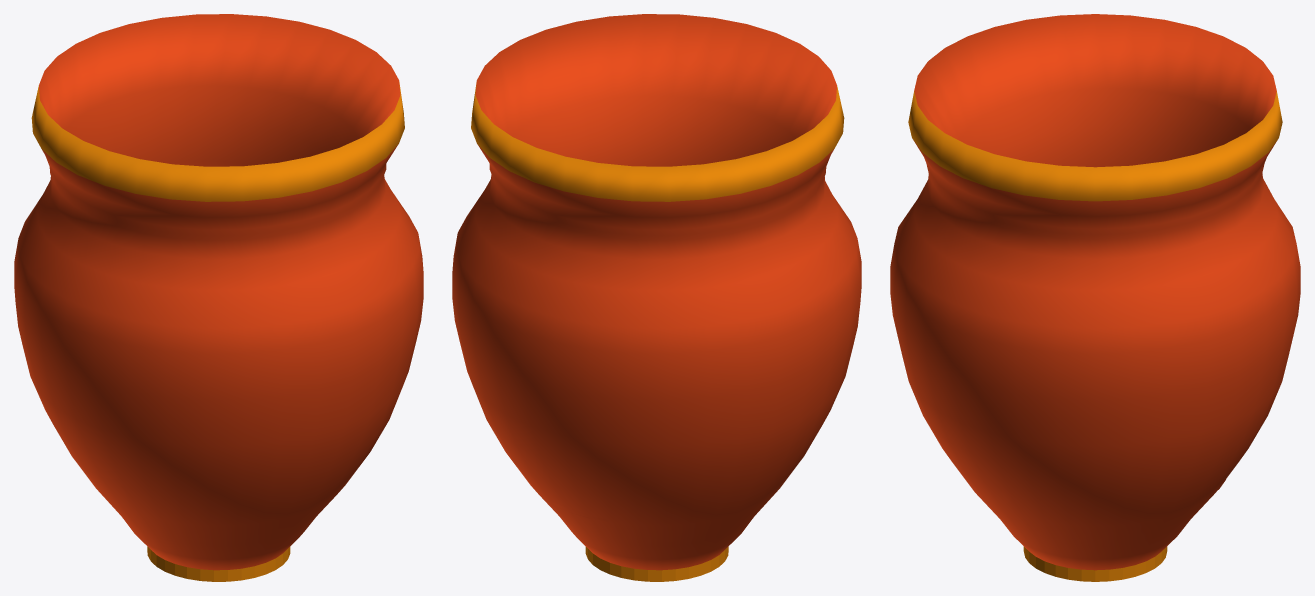
The model's file is Olla.glb.
3 renders of one model, left to right at view 1: azimuth 30°, elevation 25°; view 2: azimuth 150°, elevation 25°; view 3: azimuth 270°, elevation 25°, orthographic.
Visible parts, largest first — view 1: Cylinder001, Cylinder; view 2: Cylinder001, Cylinder; view 3: Cylinder001, Cylinder.
Boxes of the visible parts, x1=… form: Cylinder001: x1=14, y1=14, x2=423, y2=570; Cylinder: x1=147, y1=546, x2=290, y2=581; Cylinder001: x1=452, y1=14, x2=861, y2=570; Cylinder: x1=585, y1=546, x2=728, y2=581; Cylinder001: x1=890, y1=14, x2=1300, y2=570; Cylinder: x1=1023, y1=546, x2=1167, y2=581.
Size of the model in its own units: 8.48 by 10.52 by 8.48.
